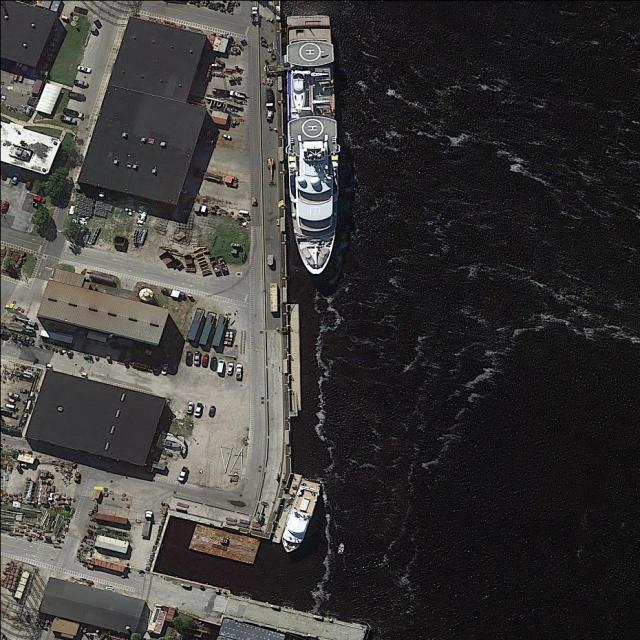Yacht: (284, 13, 339, 273), (277, 476, 321, 556)
